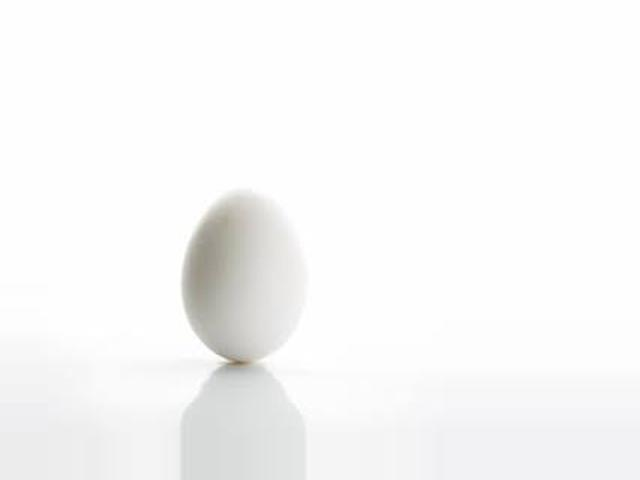egg: (181, 190, 303, 362)
